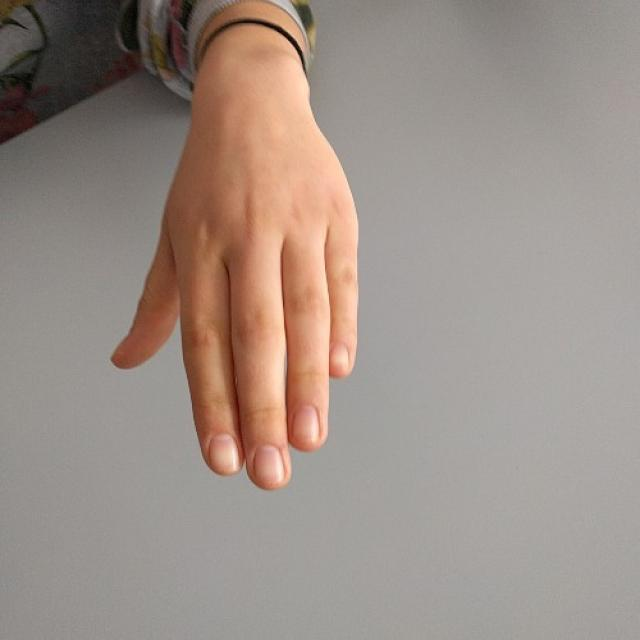paper: (108, 144, 356, 492)
